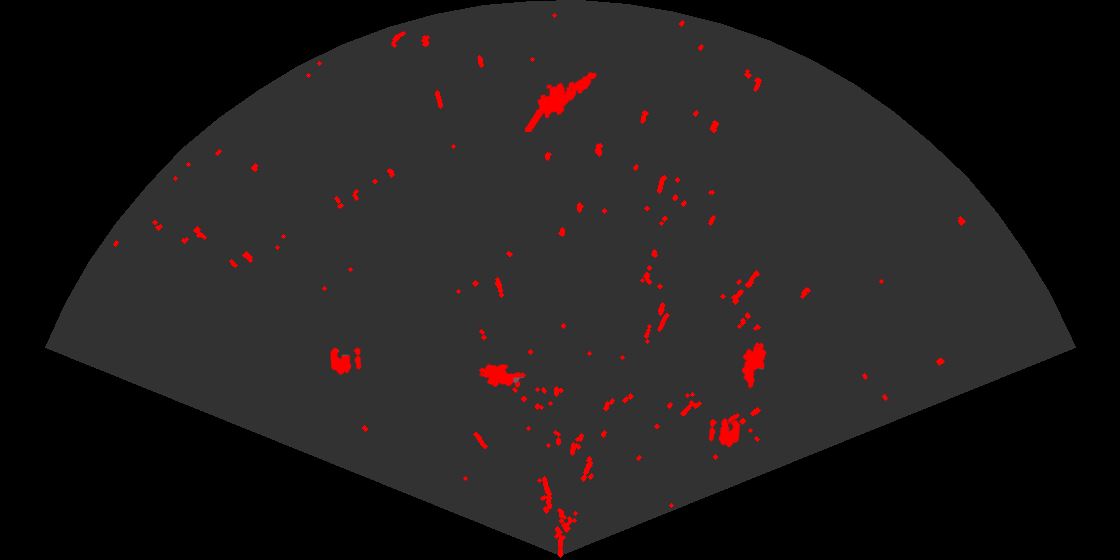AUV: (740, 341, 768, 390), (477, 363, 528, 388)
ball: (707, 416, 742, 449), (329, 346, 363, 376)
frogman: (525, 70, 598, 132)
